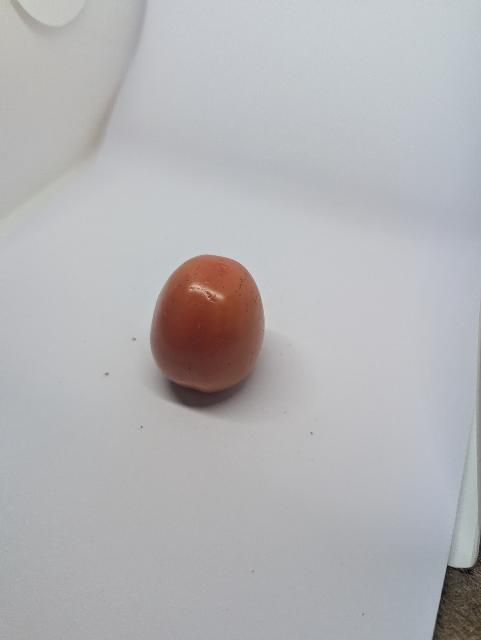red: (148, 253, 268, 397)
